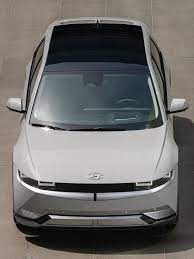Honda Ioniq: (5, 12, 190, 251)
